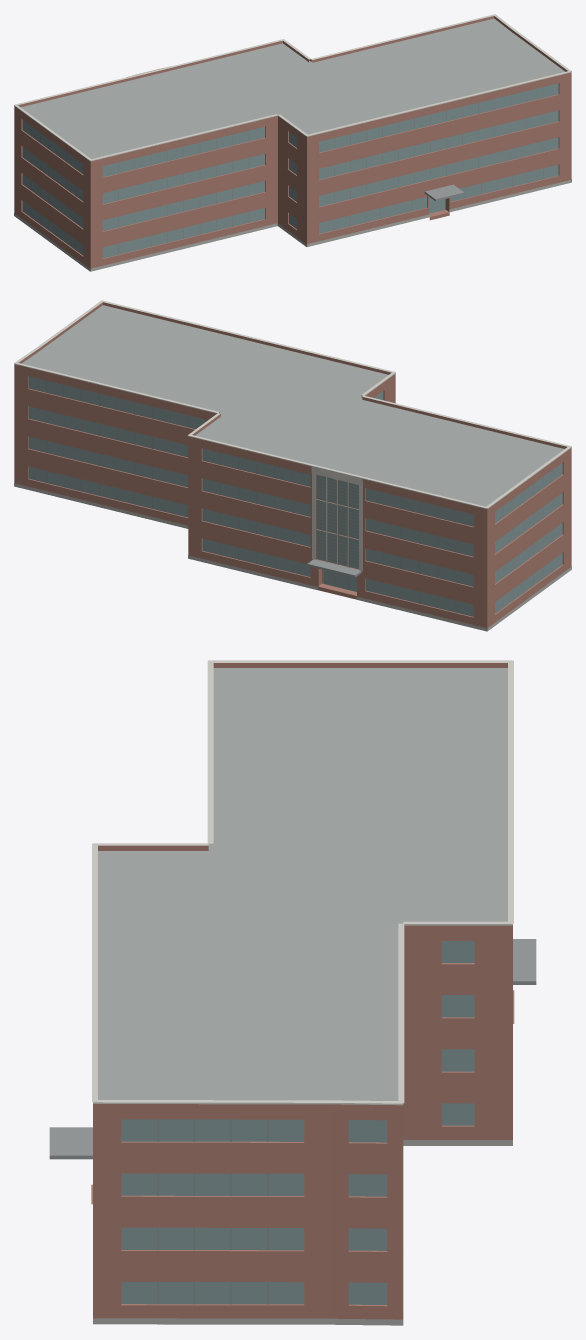
The picture shows the model from 3 angles, top to bottom: view 1: azimuth 30°, elevation 25°; view 2: azimuth 150°, elevation 25°; view 3: azimuth 270°, elevation 25°; orthographic projection. The views are drawn at different scales.
Parts seen in each view (by area): view 1: b117908732__wall, b117908732__roof, b117908732__glass, b117908732__parapet, b117908732__trim, b117908732__base, b117908732__frame, b117908732__canopy; view 2: b117908732__roof, b117908732__wall, b117908732__glass, b117908732__trim, b117908732__parapet, b117908732__frame, b117908732__base, b117908732__canopy; view 3: b117908732__roof, b117908732__wall, b117908732__glass, b117908732__trim, b117908732__parapet, b117908732__base, b117908732__canopy.
Part boxes in pixels (left/top/right/bottom): b117908732__wall: left=14, top=74, right=571, bottom=271; b117908732__roof: left=21, top=18, right=564, bottom=158; b117908732__glass: left=22, top=83, right=558, bottom=258; b117908732__parapet: left=14, top=16, right=571, bottom=163; b117908732__trim: left=14, top=14, right=571, bottom=161; b117908732__base: left=14, top=179, right=571, bottom=271; b117908732__frame: left=31, top=87, right=543, bottom=254; b117908732__canopy: left=424, top=184, right=464, bottom=201; b117908732__roof: left=22, top=305, right=564, bottom=599; b117908732__wall: left=14, top=366, right=571, bottom=631; b117908732__glass: left=28, top=376, right=562, bottom=616; b117908732__trim: left=14, top=300, right=571, bottom=571; b117908732__parapet: left=14, top=302, right=571, bottom=510; b117908732__frame: left=46, top=380, right=552, bottom=612; b117908732__base: left=14, top=483, right=571, bottom=631; b117908732__canopy: left=307, top=559, right=361, bottom=577; b117908732__roof: left=98, top=668, right=507, bottom=1325; b117908732__wall: left=93, top=929, right=512, bottom=1319; b117908732__glass: left=121, top=941, right=474, bottom=1304; b117908732__trim: left=92, top=660, right=513, bottom=1105; b117908732__parapet: left=93, top=663, right=512, bottom=1108; b117908732__base: left=93, top=1140, right=512, bottom=1325; b117908732__canopy: left=49, top=939, right=536, bottom=1159.
Size of the model in its own units: 63.17 by 15.15 by 29.29.
